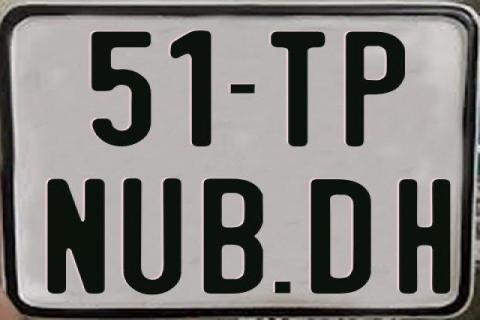0: (90, 31, 154, 151), (167, 30, 211, 146)
B: (203, 176, 268, 294)
D: (310, 178, 371, 296)
H: (396, 180, 453, 298)
N: (46, 178, 106, 294)
P: (345, 30, 407, 146)
T: (271, 30, 326, 148)
U: (120, 177, 181, 293)
